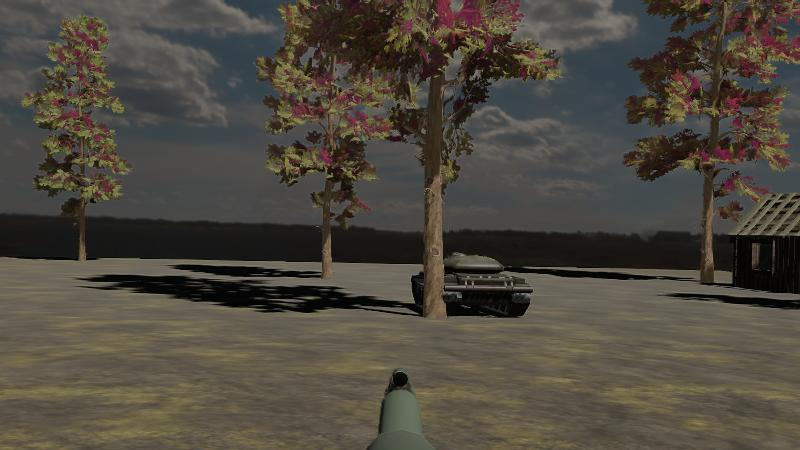House: (729, 189, 800, 293)
Tank: (408, 247, 535, 321)
